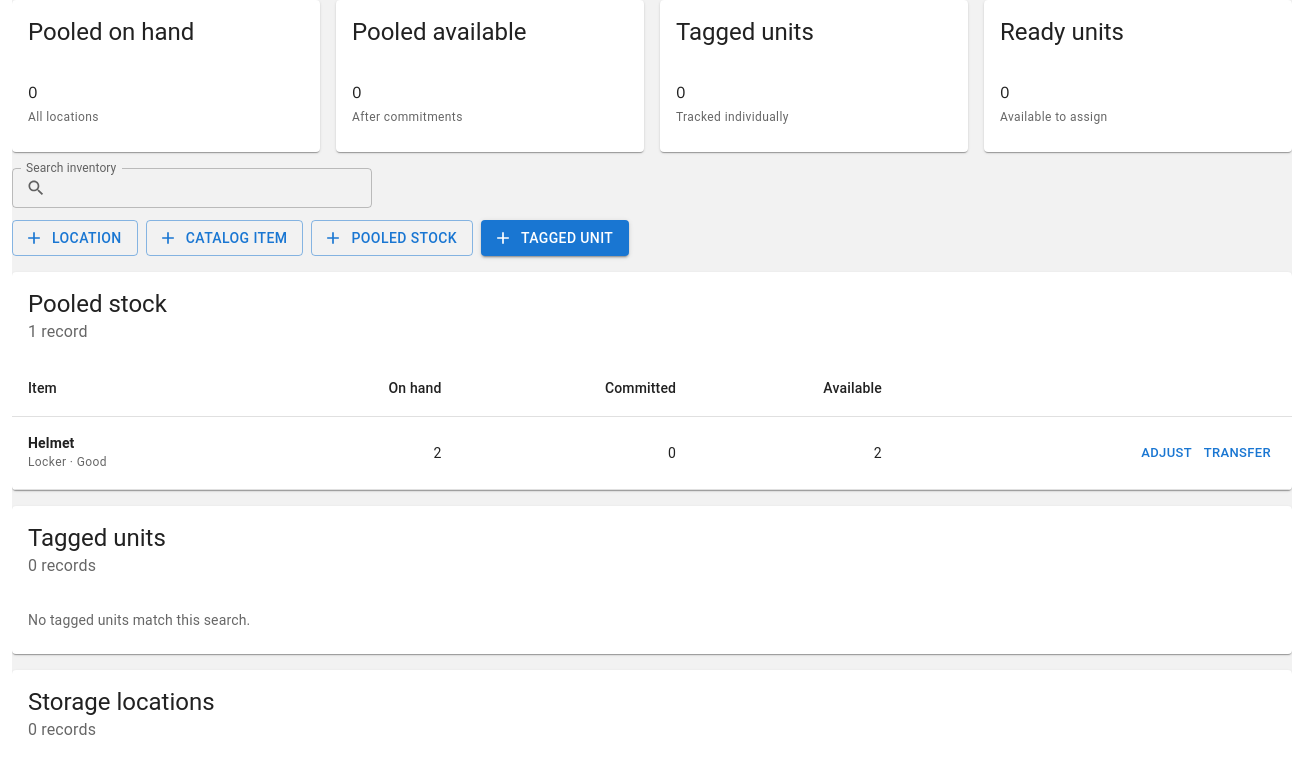
Test: GearInventoryManager › uses explicit filtered collection lengths for no-search-result copy
Type "No match" into the field labelled "Search inventory" at (213, 188), box 54,168 -> 372,208
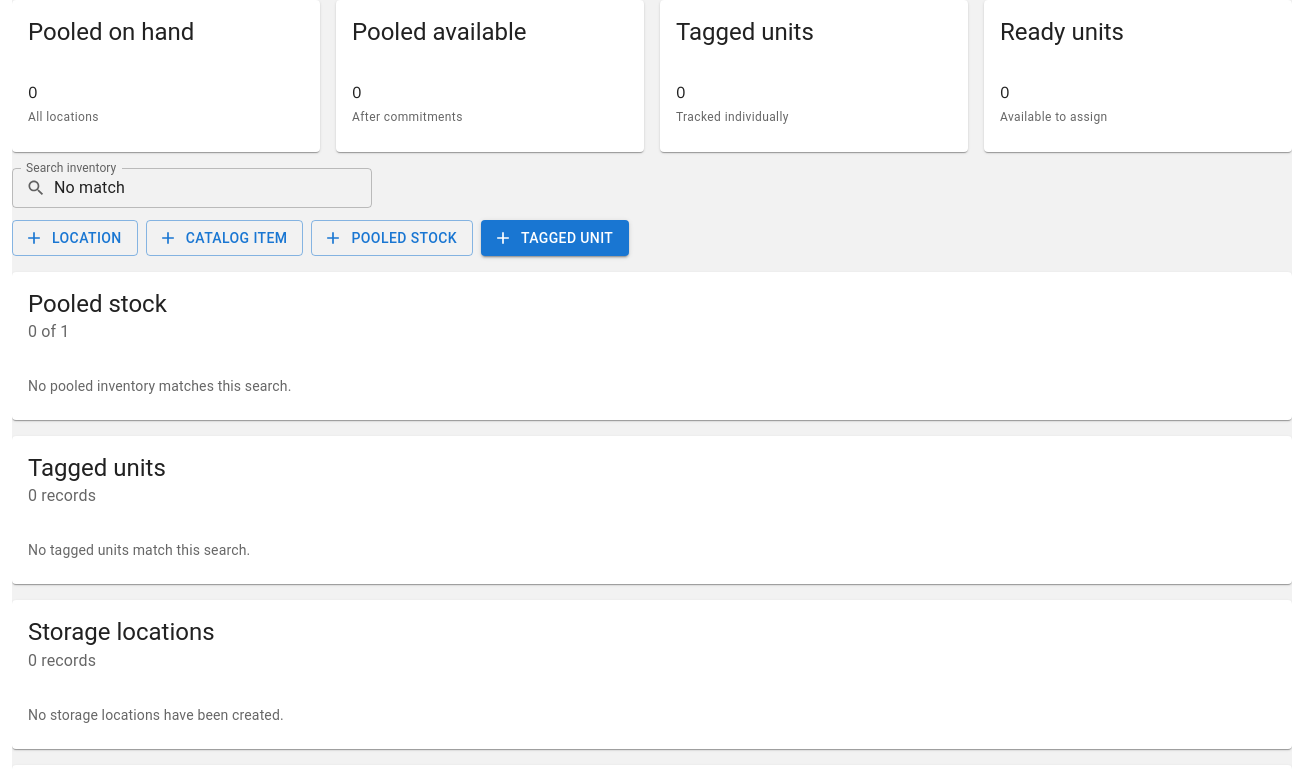
Expected: the text "No pooled inventory matches this search." is shown, 28,378 -> 292,394
